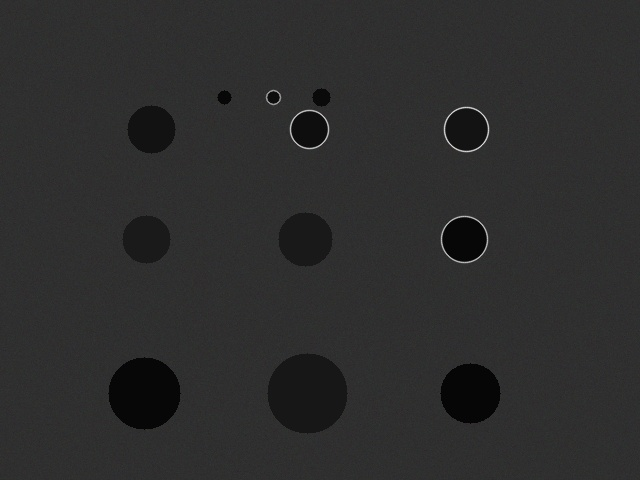hole: (267, 353, 347, 433), (108, 357, 180, 429), (440, 363, 500, 423), (278, 212, 332, 266), (127, 105, 175, 153), (122, 215, 170, 263), (441, 216, 487, 262), (444, 107, 488, 151), (290, 110, 328, 148), (312, 88, 330, 106), (217, 90, 231, 104), (266, 90, 280, 104)
